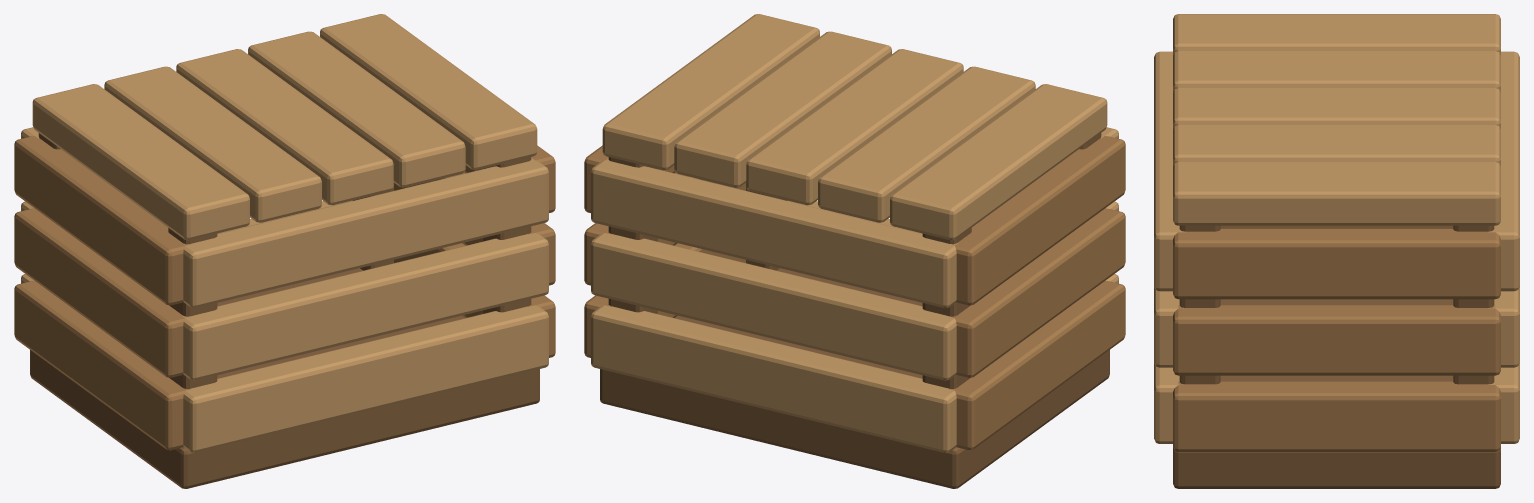
Rendered from SM_PlayerHouse_Storage_ClosedSupplyBox.fbx.
3 views of the same model, side by side, from view 1: azimuth 30°, elevation 25°; view 2: azimuth 150°, elevation 25°; view 3: azimuth 270°, elevation 25° (orthographic). The views are drawn at different scales.
Visible parts, largest first — view 1: SM_PlayerHouse_Storage_ClosedSupplyBox; view 2: SM_PlayerHouse_Storage_ClosedSupplyBox; view 3: SM_PlayerHouse_Storage_ClosedSupplyBox.
Boxes of the visible parts, left/top/right/bottom form: SM_PlayerHouse_Storage_ClosedSupplyBox: left=14, top=14, right=555, bottom=488; SM_PlayerHouse_Storage_ClosedSupplyBox: left=584, top=14, right=1125, bottom=488; SM_PlayerHouse_Storage_ClosedSupplyBox: left=1154, top=14, right=1519, bottom=488.
Size of what is drawn, in the model's own units: 69.5 by 53.5 by 47.75.
